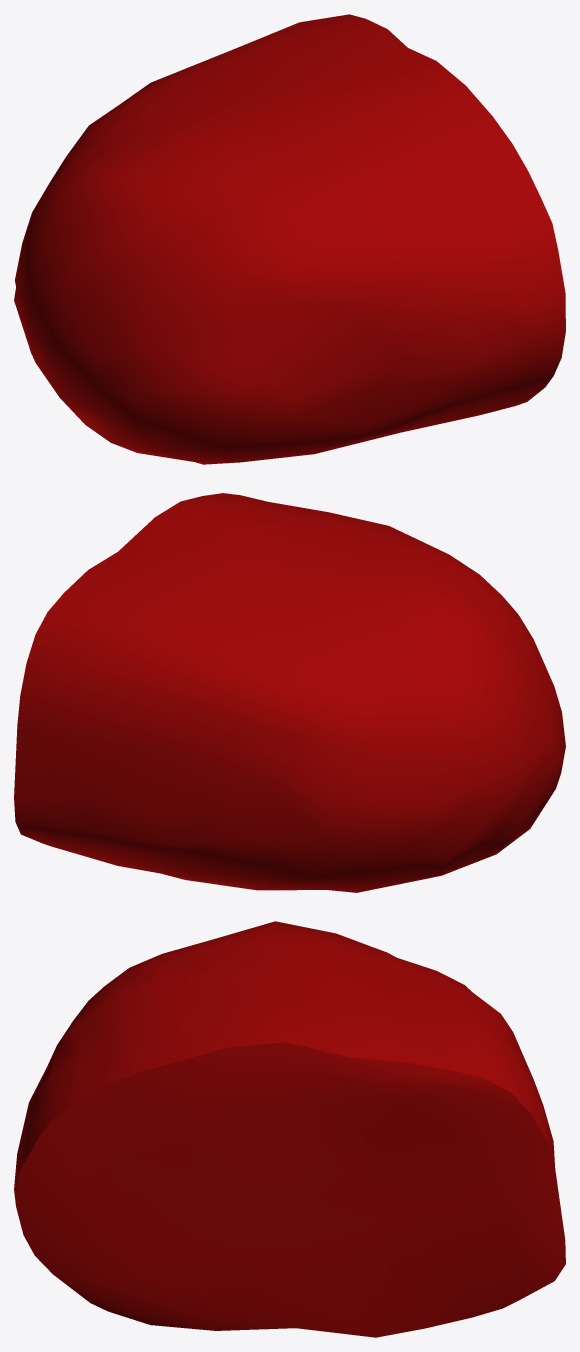
File: SM_Bread_02.fbx
The picture shows the model from 3 angles, top to bottom: view 1: azimuth 30°, elevation 25°; view 2: azimuth 150°, elevation 25°; view 3: azimuth 270°, elevation 25°; orthographic projection. The views are drawn at different scales.
Parts seen in each view (by area): view 1: SM_Bread_02; view 2: SM_Bread_02; view 3: SM_Bread_02.
Boxes of the visible parts, x1,y1,x2,y2 form: SM_Bread_02: (14,14,565,464); SM_Bread_02: (14,493,565,892); SM_Bread_02: (14,921,565,1337).
Bounding box in the file's own units: 16.02 × 18.85 × 11.08.
